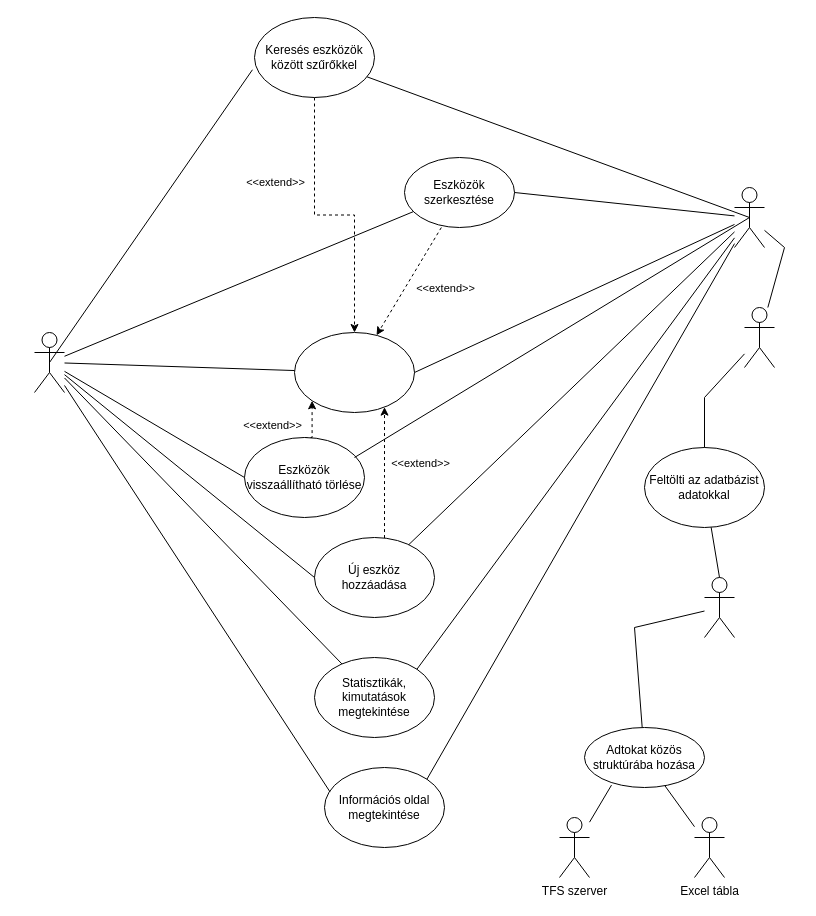
This 816x916 diagram has some shape labels left out. The centre of each missing label's shape, as x and y in pixels:
"Adatbázis" belongs at (x=759, y=337).
"Adatbázis feltöltő szolgáltatás" belongs at (x=719, y=607).
"API" belongs at (x=749, y=217).
"Eszközök megtekintése" belongs at (x=354, y=372).
"Felhasználó" belongs at (x=49, y=362).
